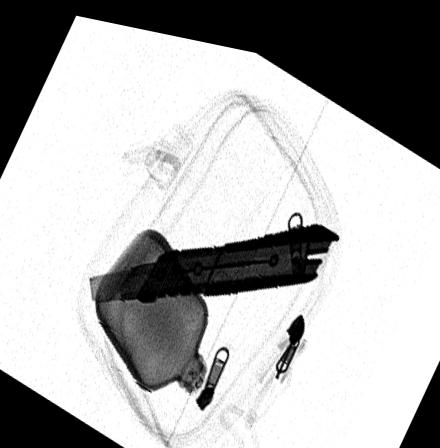Knife: (87, 208, 339, 299)
